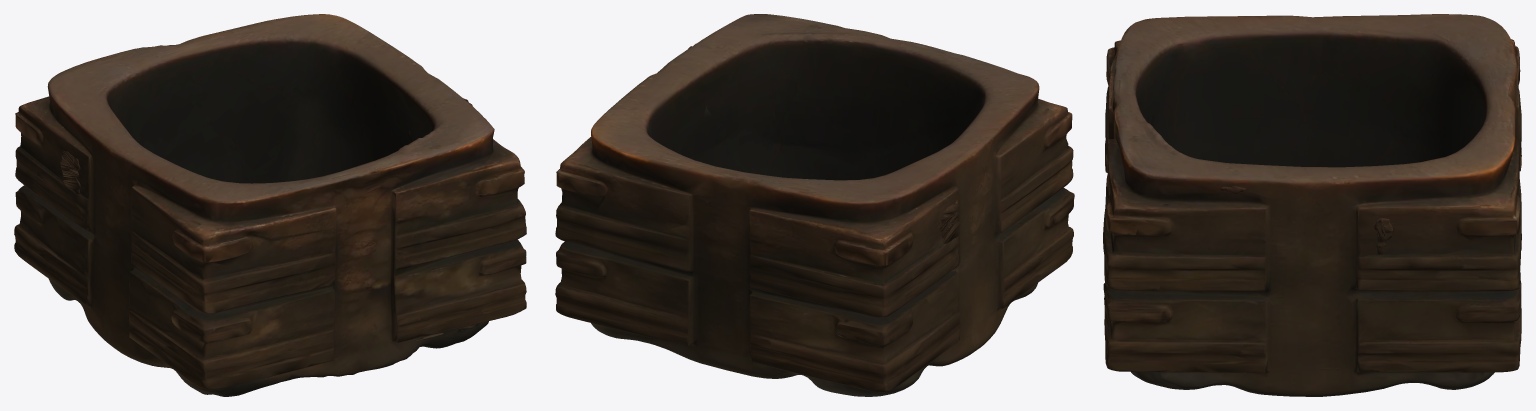
Rendered from songmingqing.glb.
The picture shows the model from 3 angles, left to right: view 1: azimuth 30°, elevation 25°; view 2: azimuth 150°, elevation 25°; view 3: azimuth 270°, elevation 25°; orthographic projection. The views are drawn at different scales.
Visible parts, largest first — view 1: node_0; view 2: node_0; view 3: node_0.
Part boxes in pixels (x1,y1,x2,y2): node_0: (14,14,526,396); node_0: (555,14,1074,396); node_0: (1103,14,1521,396).
Bounding box in the file's own units: 0.8369 × 0.4919 × 0.8294.
Materials: 1 (1 with a texture image).
